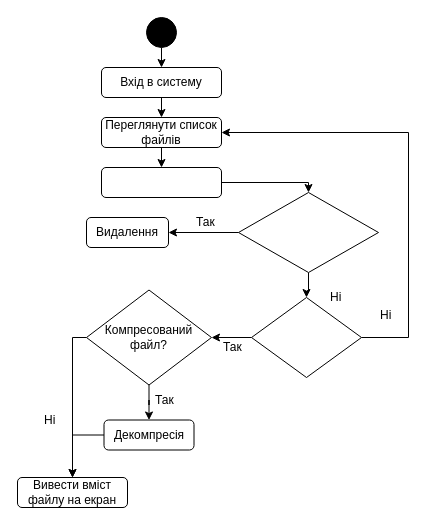
This 434x525 diagram has some shape labels left out. Each missing label, with the centre of its shape:
"Вибрати файл" goes at [161,182].
"Видалити?" goes at [308,232].
"Переглянути?" goes at [306,337].
